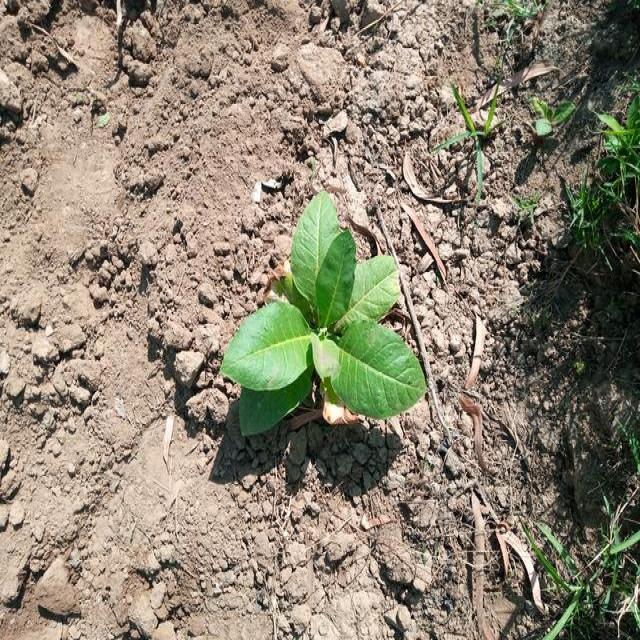crop: (231, 202, 423, 434)
